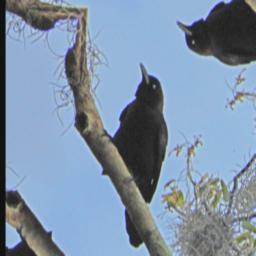Crow: (63, 58, 215, 252)
